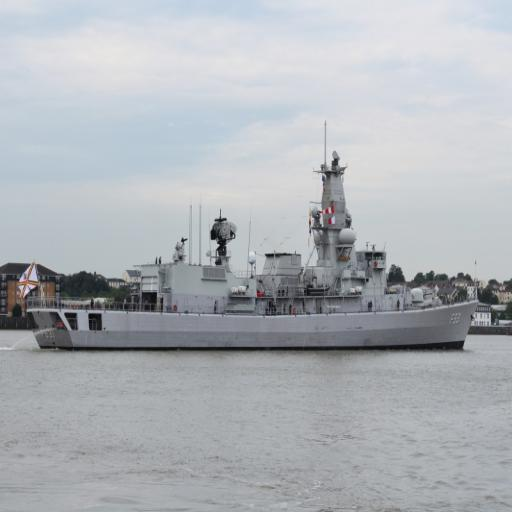Fragata: (27, 123, 482, 351)
